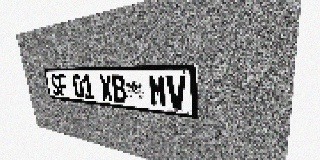0: (71, 74, 85, 98)
1: (81, 74, 95, 100)
B: (111, 75, 127, 103)
F: (57, 74, 69, 97)
M: (148, 75, 168, 108)
S: (49, 74, 61, 96)
V: (166, 75, 187, 110)
X: (99, 75, 114, 102)
